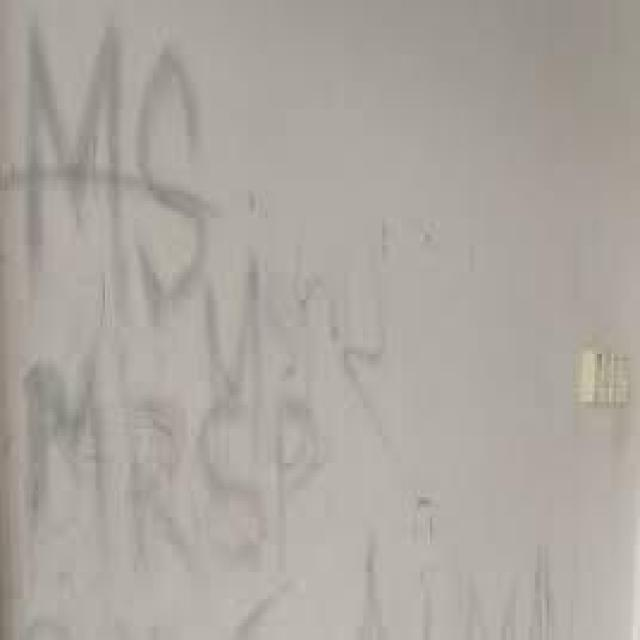nonspitting: (21, 17, 329, 576)
